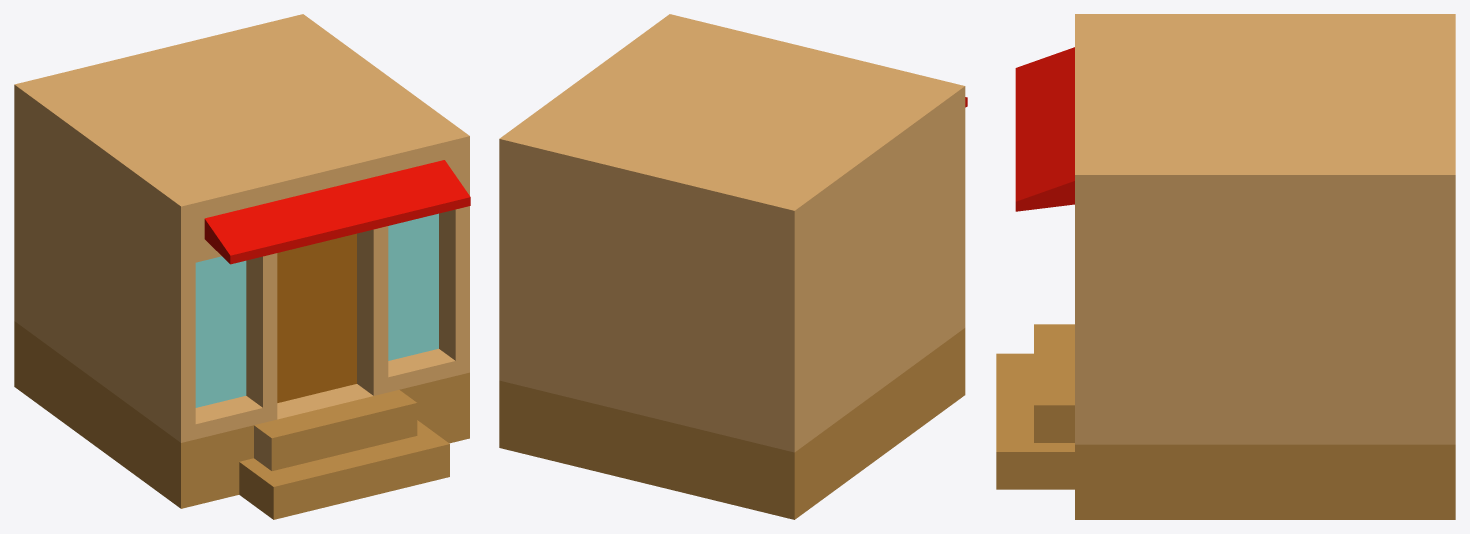
Rendered from buildingsbase2.fbx.
3 renders of one model, left to right at view 1: azimuth 30°, elevation 25°; view 2: azimuth 150°, elevation 25°; view 3: azimuth 270°, elevation 25°, orthographic. The views are drawn at different scales.
Parts seen in each view (by area): view 1: base4; view 2: base4; view 3: base4.
Boxes of the visible parts, x1,y1,x2,y2 form: base4: (14,14,470,519); base4: (499,14,967,519); base4: (996,14,1455,519).
Bounding box in the file's own units: 100 × 100 × 121.
